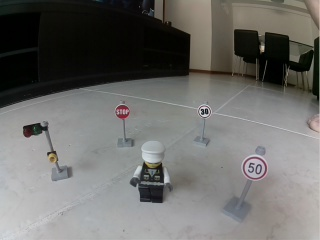Person: (130, 140, 172, 205)
Red Traffic Light: (21, 120, 71, 183)
Speed Limit 30: (197, 105, 213, 118)
Speed Limit 50: (241, 154, 268, 181)
Stop Sign: (114, 104, 131, 119)
